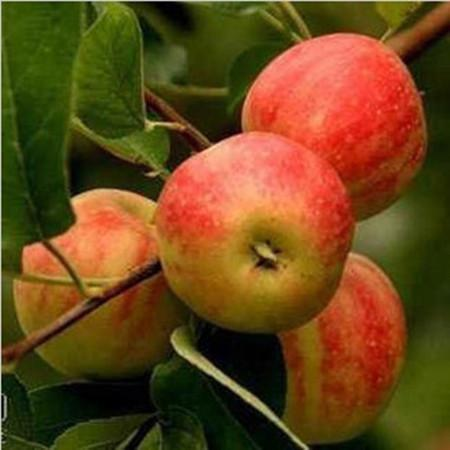apple: (155, 132, 355, 334), (241, 33, 426, 225), (12, 187, 184, 378), (275, 253, 406, 444)
